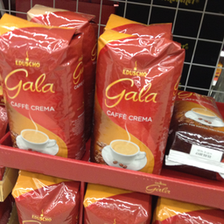coffee: (91, 13, 182, 174), (1, 13, 85, 158), (166, 88, 223, 179)
